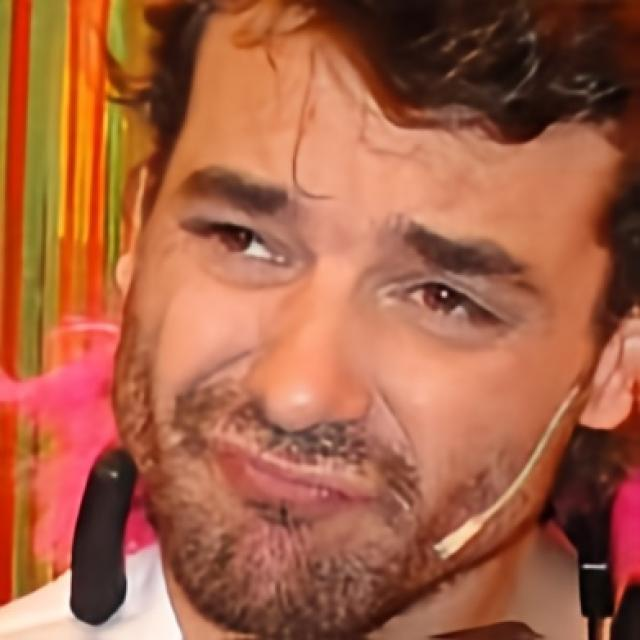sad: (112, 0, 616, 640)
